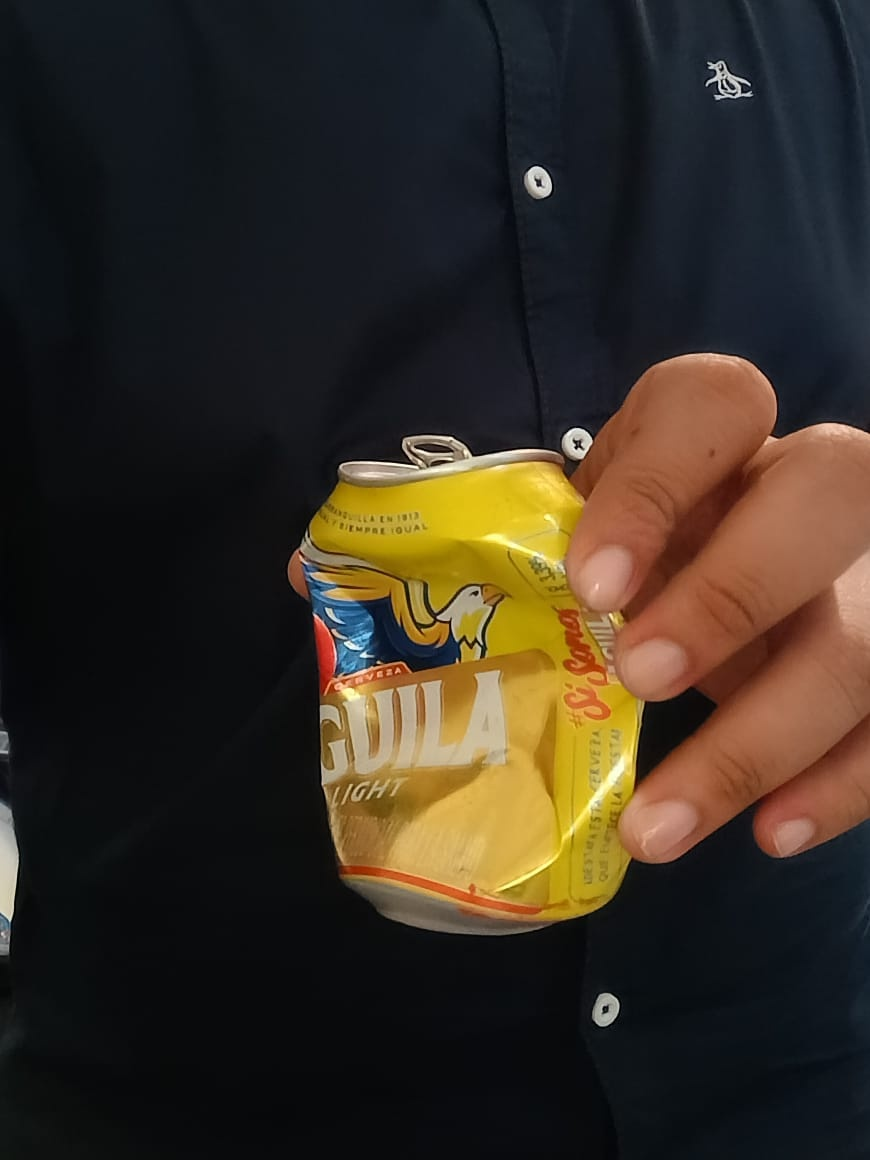Metal: (303, 438, 647, 937)
